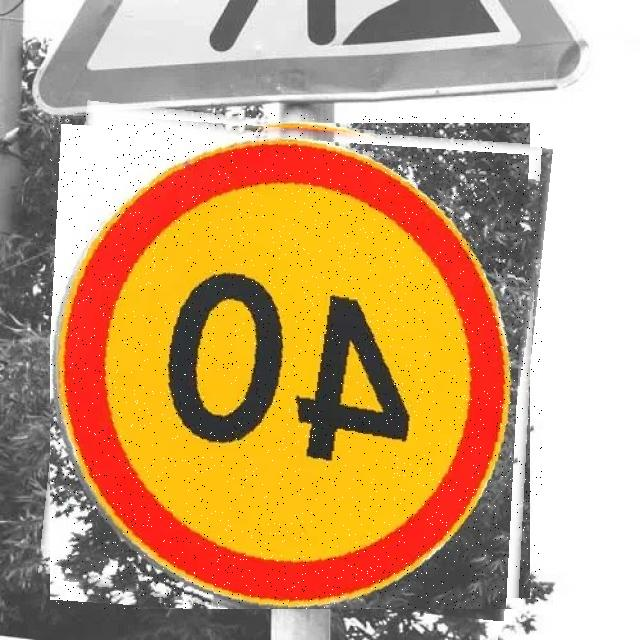speed limit 40: (50, 112, 542, 609)
